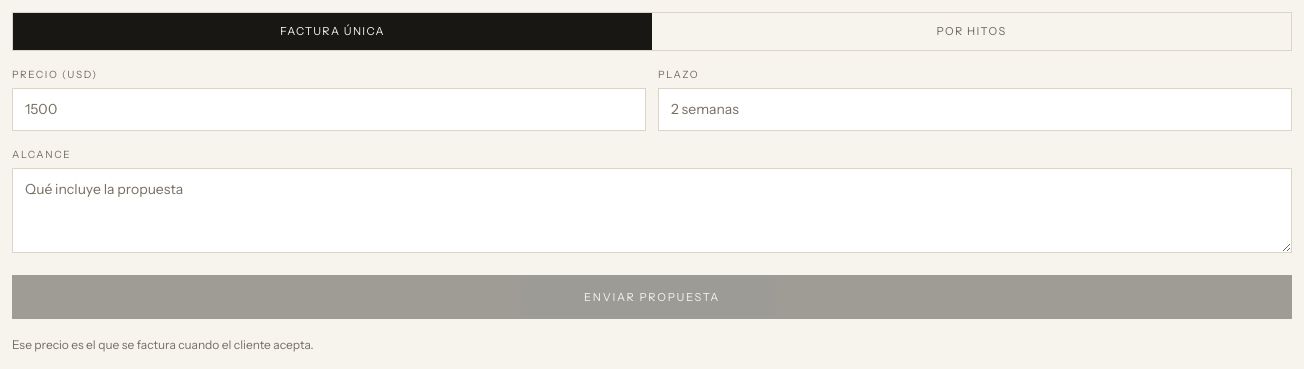
Test: FormPropuesta: precio único › acepta un centavo y el máximo representable por NUMERIC(12,2)
Type "0,01" into the field labelled "Precio (USD)" at (329, 109), box [12, 88, 646, 130]
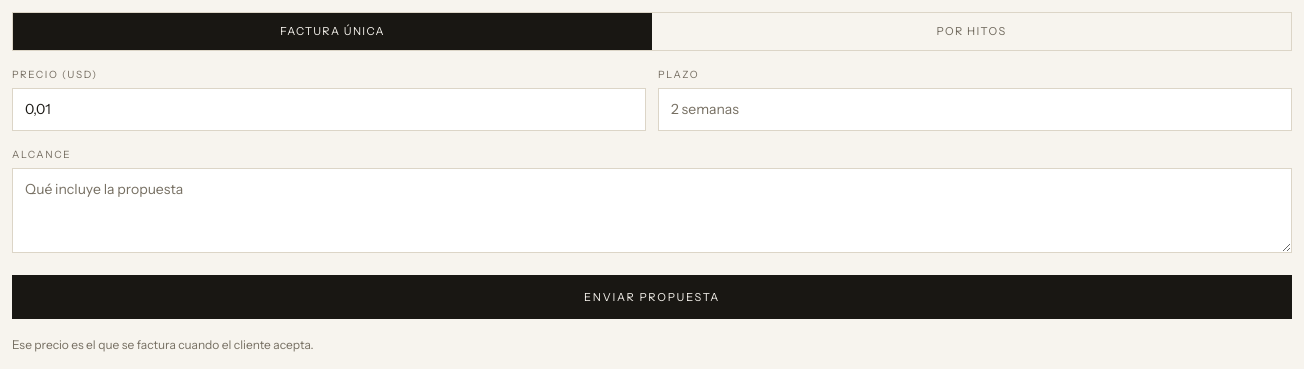
Now the button "Enviar propuesta" is enabled, box [12, 274, 1292, 319]
Replace the text in the field labelled "Precio (USD)" with "9999999999.99" at (329, 109), box [12, 88, 646, 130]
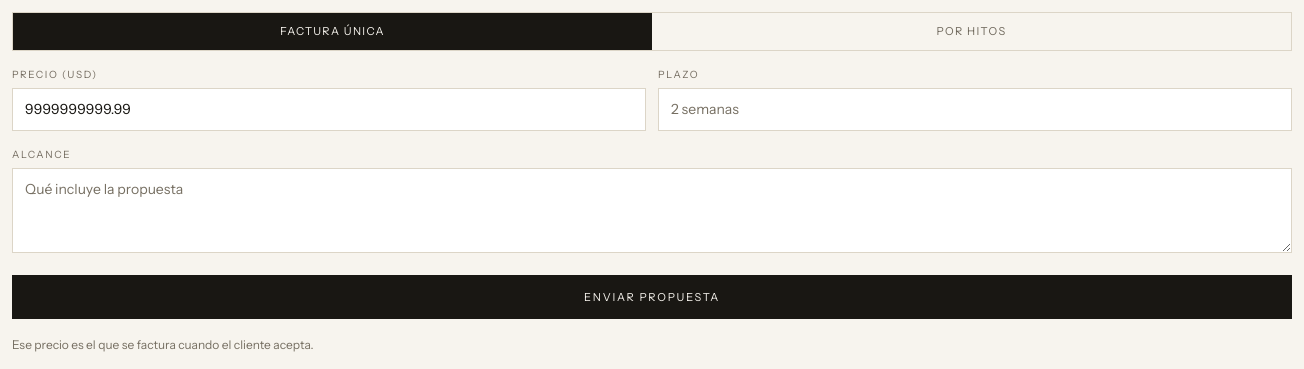
Now the button "Enviar propuesta" is enabled, box [12, 274, 1292, 319]
Replace the text in the field labelled "Precio (USD)" with "10000000000" at (329, 109), box [12, 88, 646, 130]
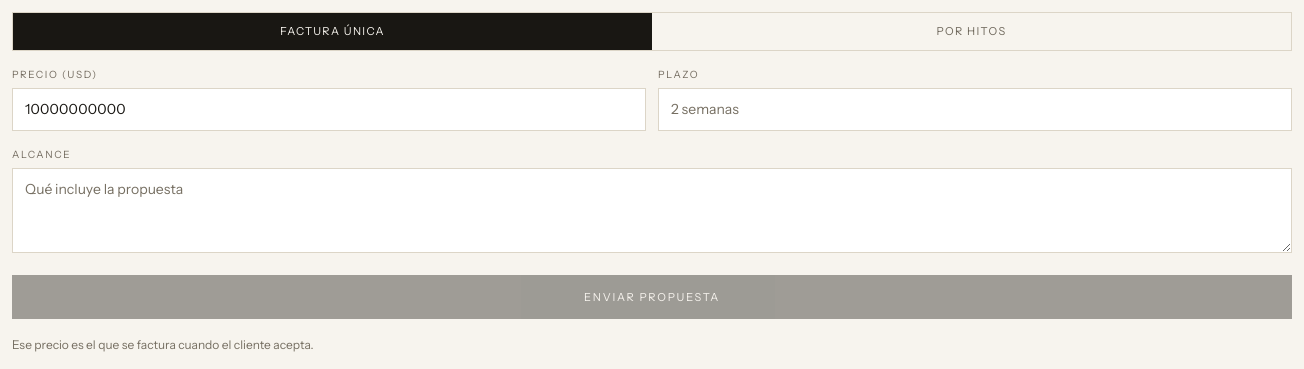
Now the button "Enviar propuesta" is disabled, box [12, 274, 1292, 319]
